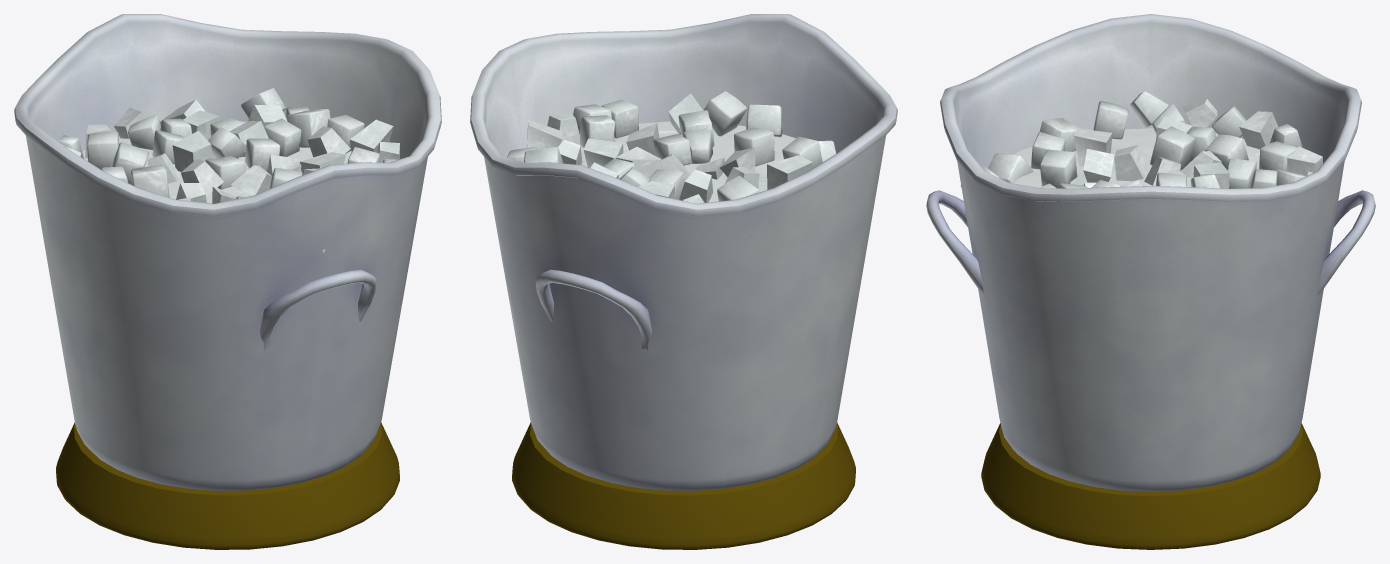
File: IceBucket01_3_1.FBX
The picture shows the model from 3 angles, left to right: view 1: azimuth 30°, elevation 25°; view 2: azimuth 150°, elevation 25°; view 3: azimuth 270°, elevation 25°; orthographic projection.
Visible parts, largest first — view 1: IceBucket03_1; view 2: IceBucket03_1; view 3: IceBucket03_1.
Part boxes in pixels (box(x1,y1,x2,y2)): IceBucket03_1: box(14, 14, 441, 549); IceBucket03_1: box(470, 14, 897, 549); IceBucket03_1: box(926, 14, 1375, 549).
Bounding box in the file's own units: 28.03 × 27.96 × 29.85.
